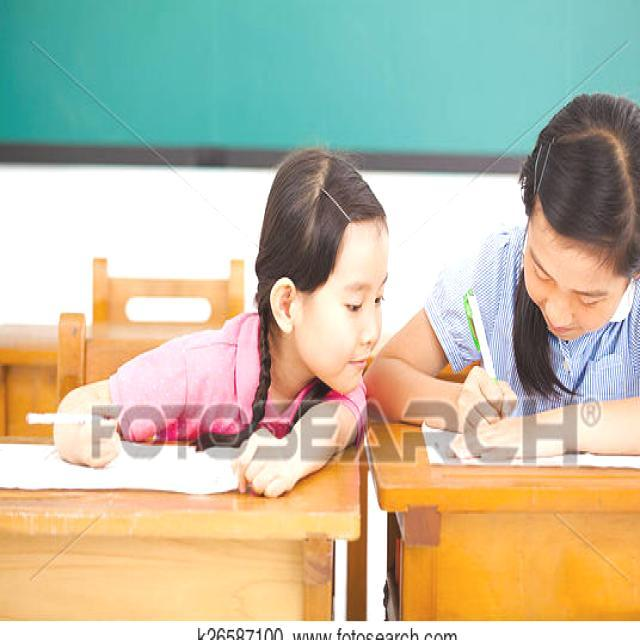cheating: (0, 130, 412, 504)
good: (417, 82, 640, 474)
